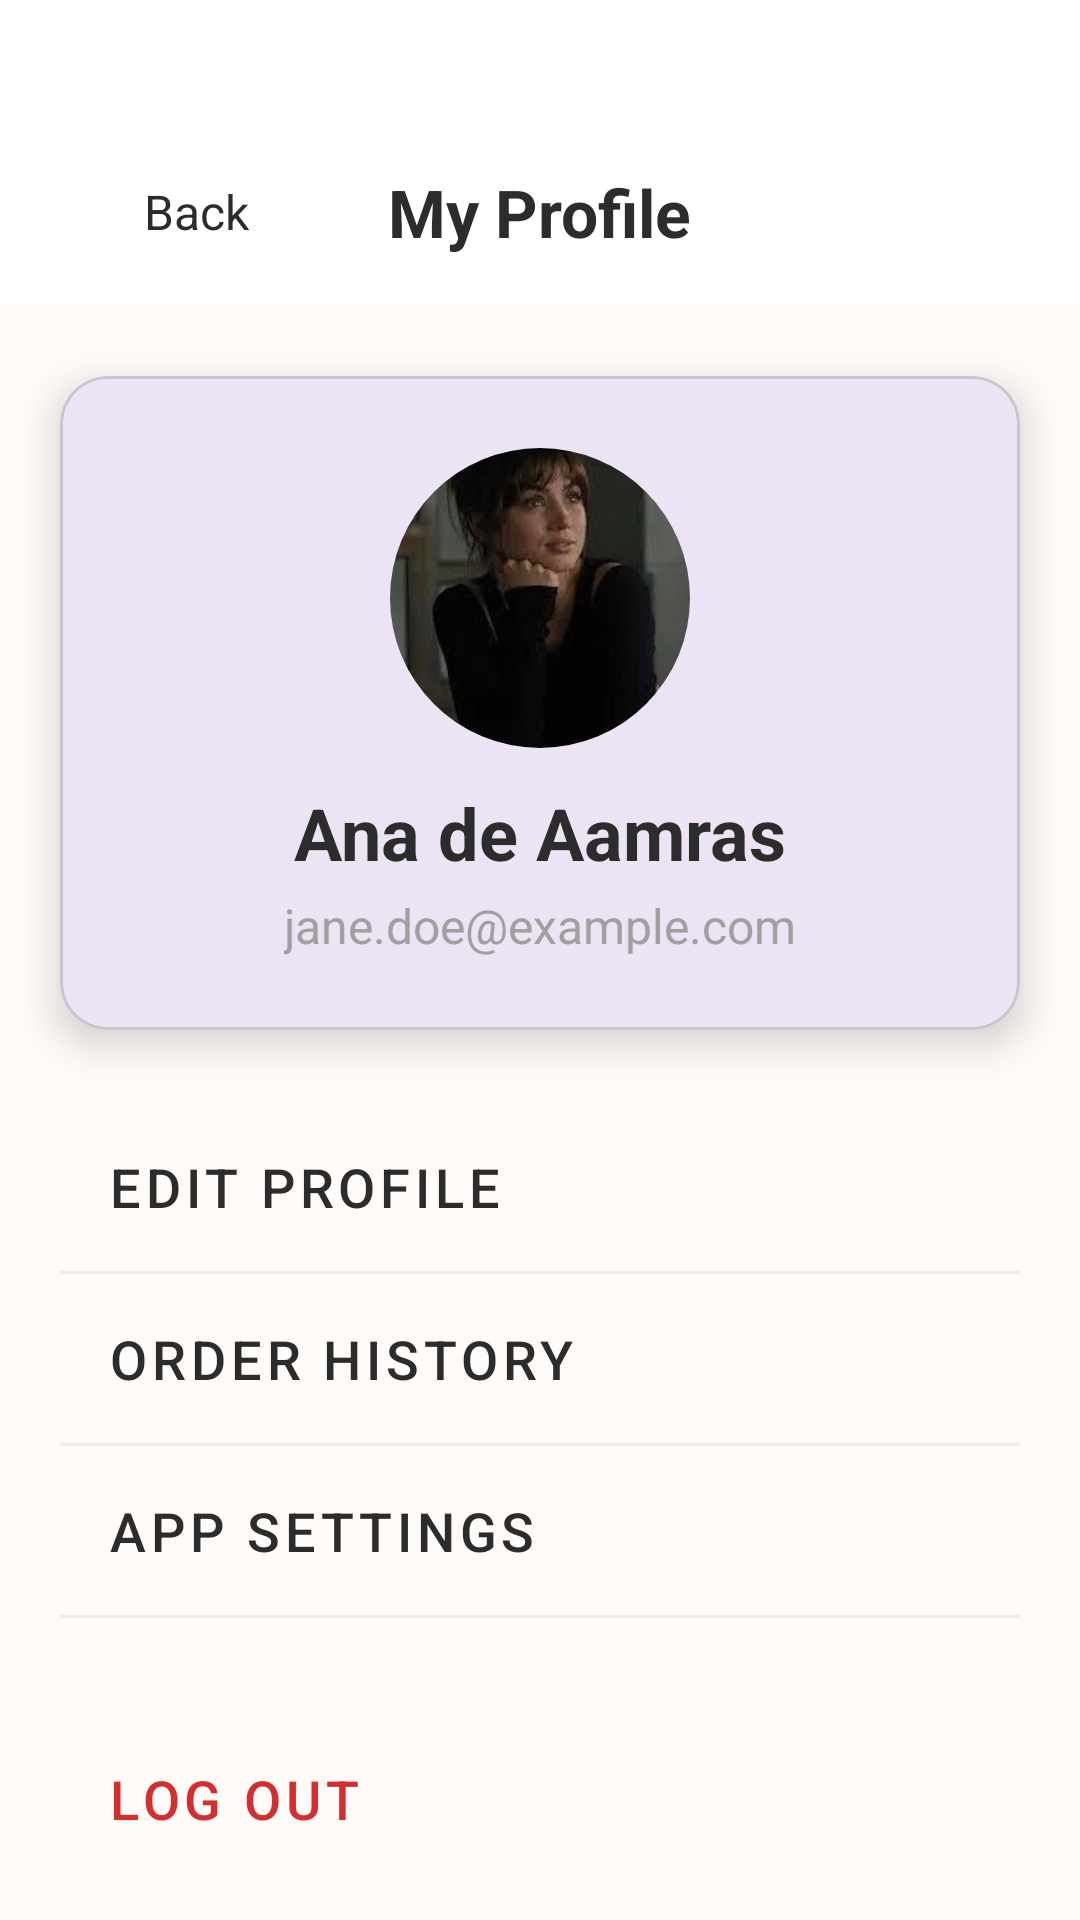

Named icons in this screenshot (1080 × 1920) and their bounding boxes, (x1, y1, x2, y2):
profile: (390, 448, 690, 748)
